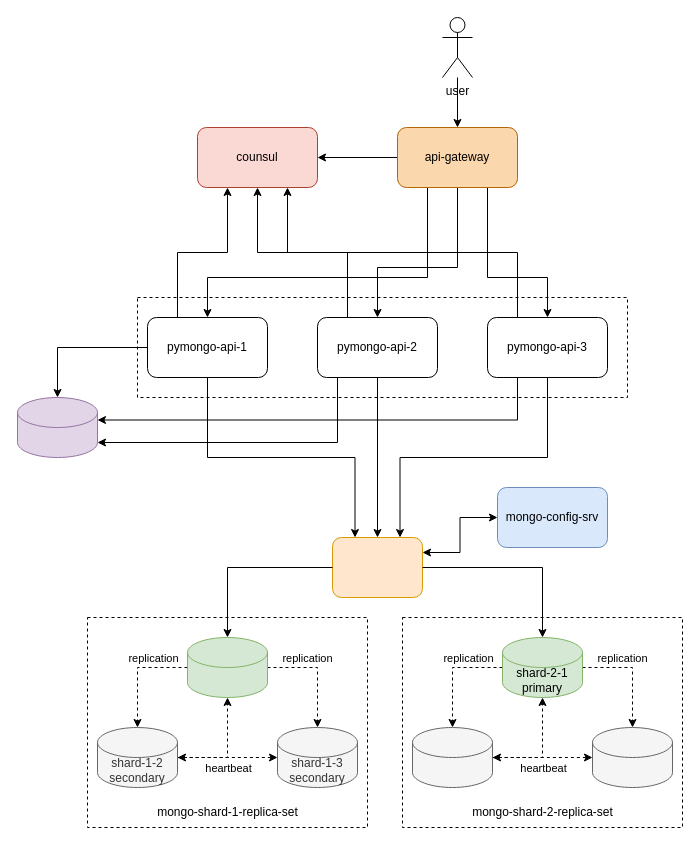
This 700x845 diagram has some shape labels left out. Here are the shapes that lost their labels. From the top down, the box of each, then its label:
(16, 396, 98, 458): redis
(332, 536, 422, 598): mongo-router
(186, 636, 268, 698): shard-1-1 primary
(412, 726, 492, 788): shard-2-2 secondary
(592, 726, 672, 788): shard-2-3 secondary
